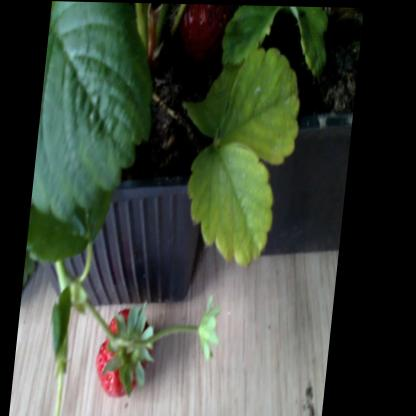ripe: (102, 309, 162, 396), (181, 3, 223, 46)
